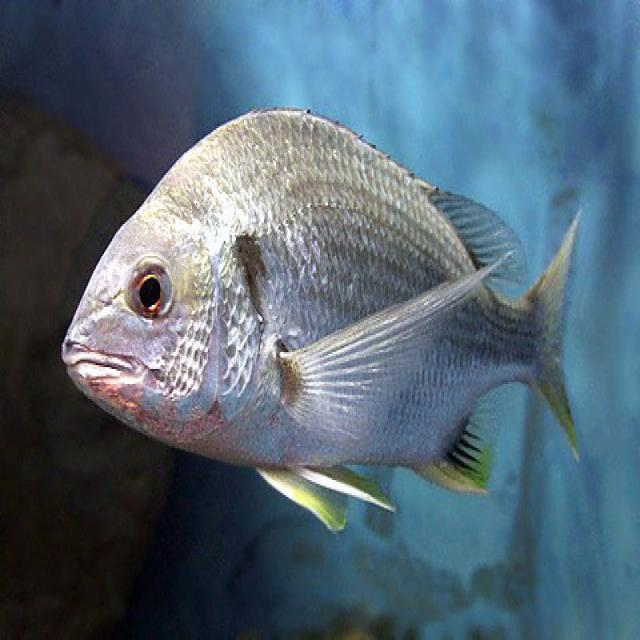Healthy Fish: (40, 118, 595, 538)
